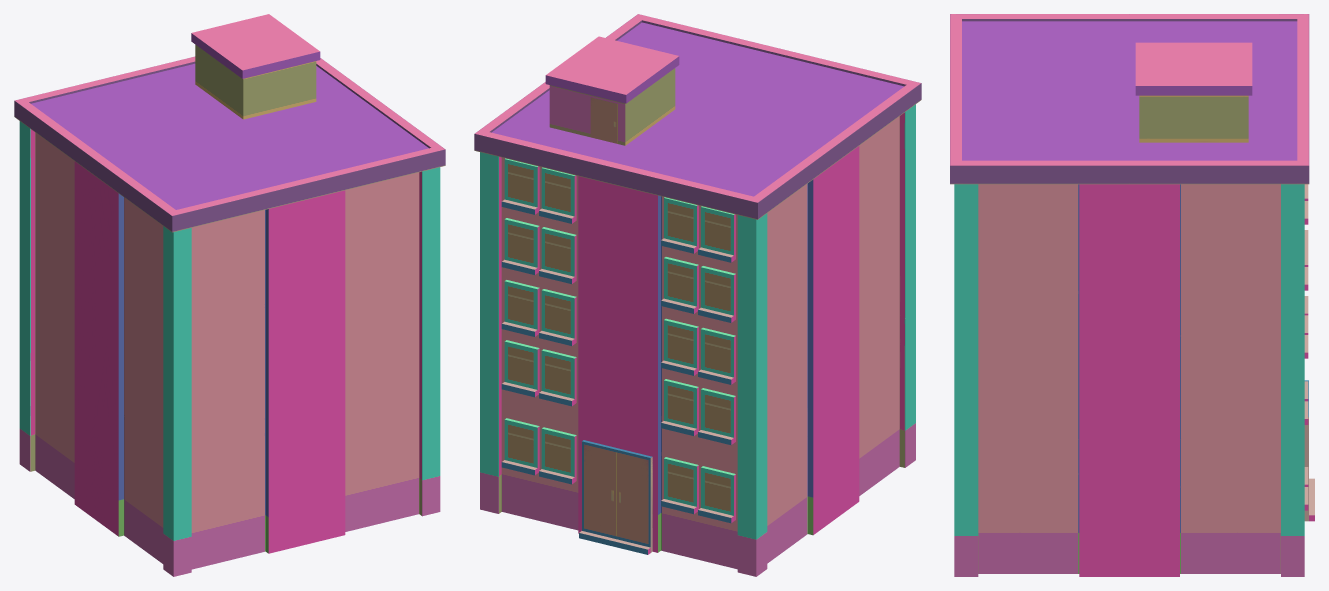
Rendered from house_02.FBX.
3 renders of one model, left to right at view 1: azimuth 30°, elevation 25°; view 2: azimuth 150°, elevation 25°; view 3: azimuth 270°, elevation 25°, orthographic. The views are drawn at different scales.
Parts seen in each view (by area): view 1: apartment_large_mesh_Part_3, apartment_large_mesh_Part_1, apartment_large_mesh_Part_2, apartment_large_mesh_Part_4; view 2: apartment_large_mesh_Part_3, apartment_large_mesh_Part_4, apartment_large_mesh_Part_1, apartment_large_mesh_Part_2; view 3: apartment_large_mesh_Part_4, apartment_large_mesh_Part_2, apartment_large_mesh_Part_1, apartment_large_mesh_Part_3.
Boxes of the visible parts, <box> form: apartment_large_mesh_Part_3: <box>14,30,329,426</box>; apartment_large_mesh_Part_1: <box>19,402,440,576</box>; apartment_large_mesh_Part_2: <box>175,216,440,425</box>; apartment_large_mesh_Part_4: <box>173,14,445,237</box>; apartment_large_mesh_Part_3: <box>593,43,921,515</box>; apartment_large_mesh_Part_4: <box>474,14,757,368</box>; apartment_large_mesh_Part_1: <box>480,305,915,576</box>; apartment_large_mesh_Part_2: <box>480,342,689,458</box>; apartment_large_mesh_Part_4: <box>950,49,1309,394</box>; apartment_large_mesh_Part_2: <box>954,240,1308,507</box>; apartment_large_mesh_Part_1: <box>954,431,1314,576</box>; apartment_large_mesh_Part_3: <box>950,14,1309,315</box>.
Size of the model in its own units: 11.63 by 16.75 by 11.82.
Materials: 1 (1 with a texture image).
